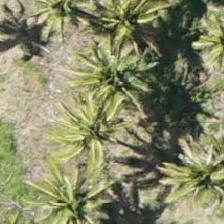coconut_tree: (51, 83, 141, 173), (74, 29, 164, 119), (23, 157, 113, 223), (165, 127, 223, 217), (91, 0, 181, 55)
